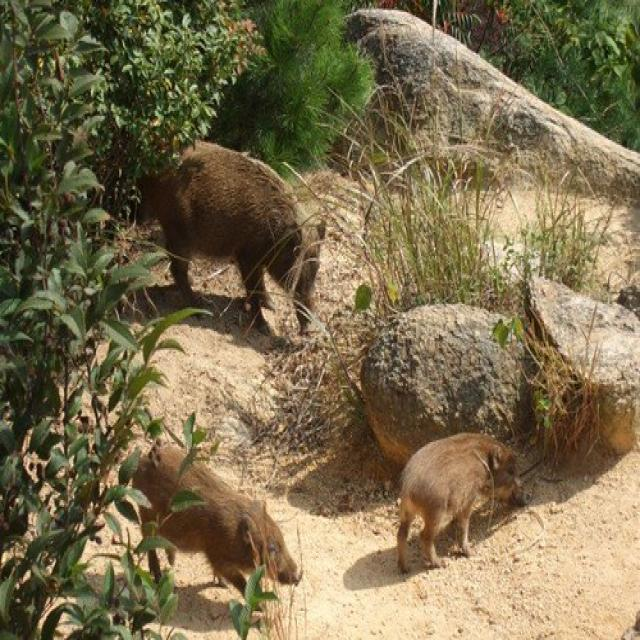boar: (124, 112, 331, 357), (110, 427, 305, 634), (352, 418, 539, 578)
